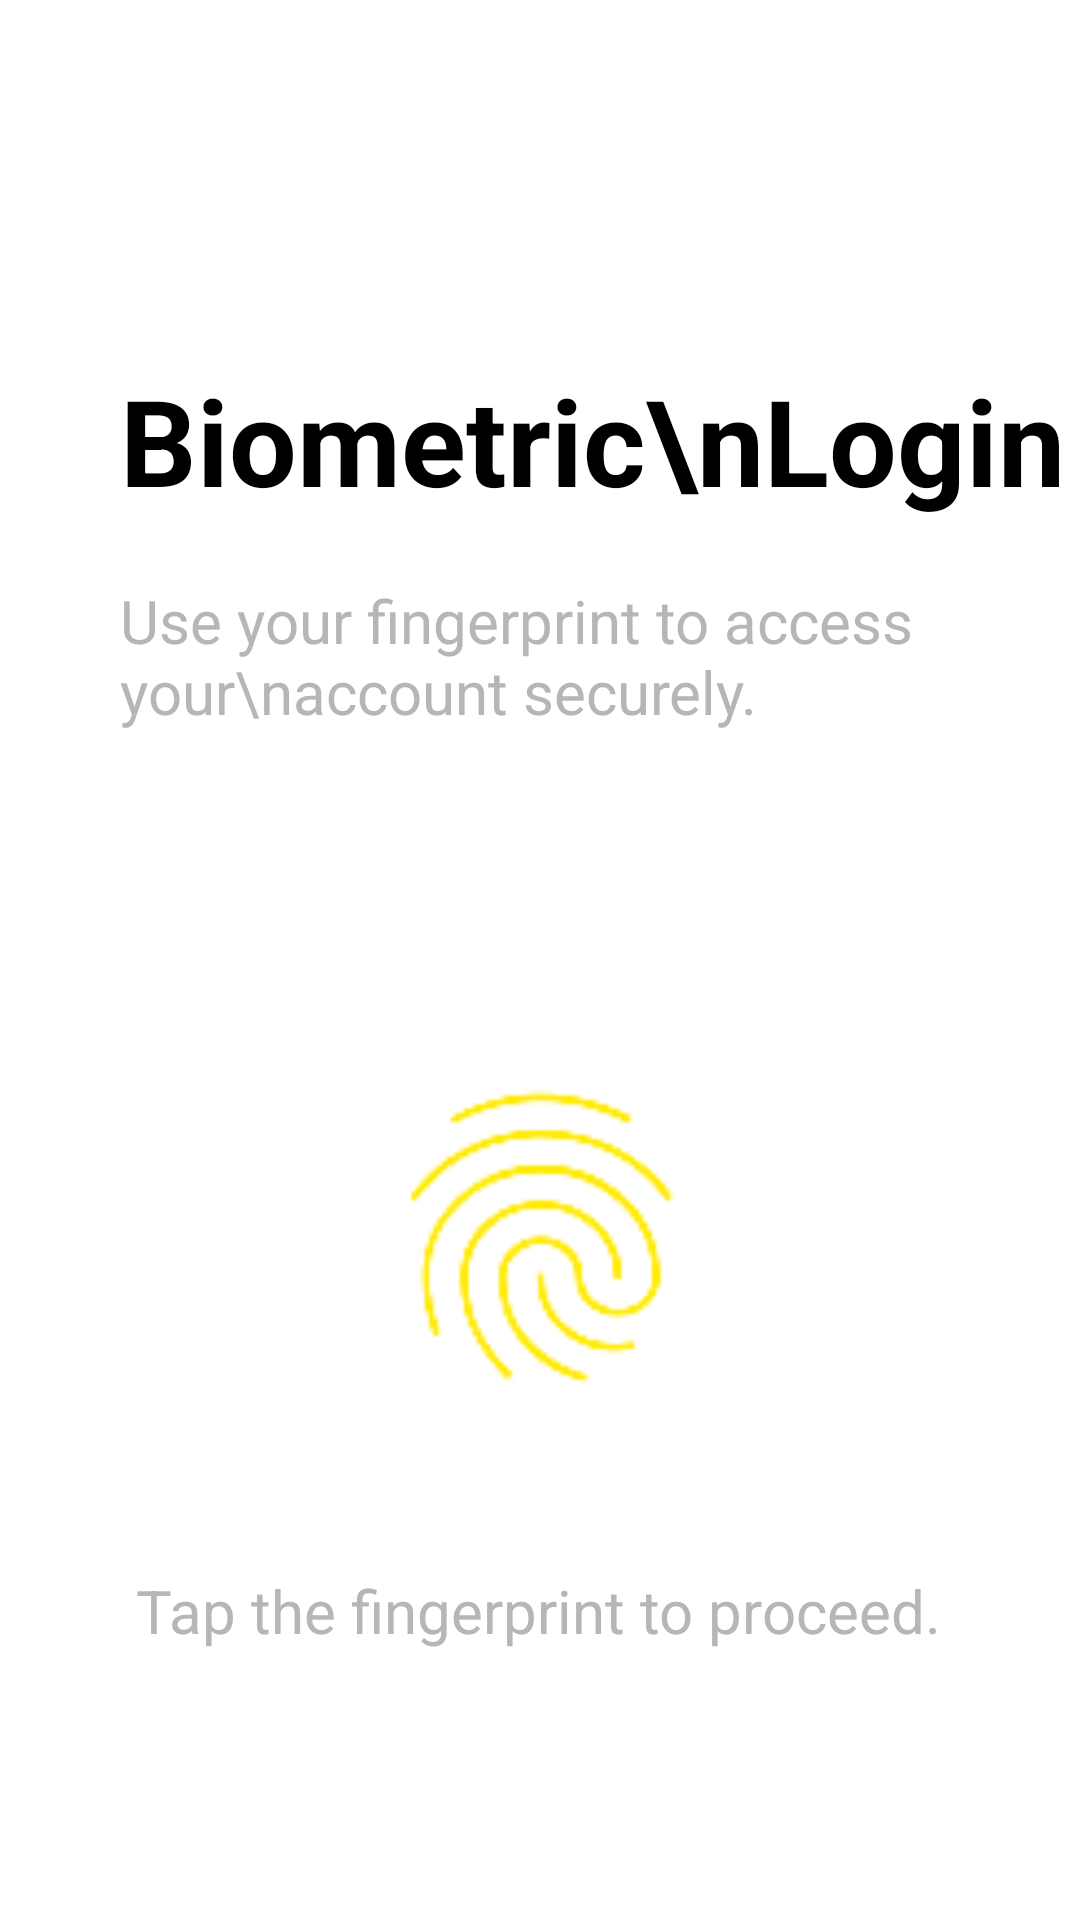

Screen size 1080px×1920px. Icon name, then its center in pixels as (x,y):
fingerprint: (542,1237)
